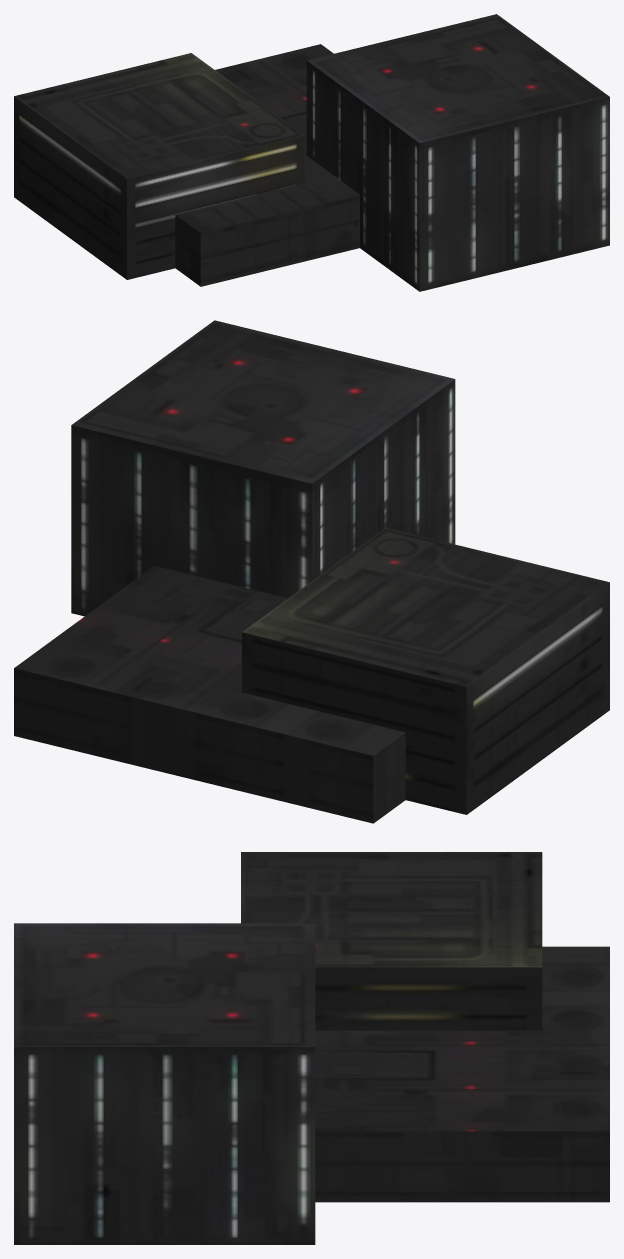
File: scifi_building_37.obj
3 renders of one model, top to bottom at view 1: azimuth 30°, elevation 25°; view 2: azimuth 150°, elevation 25°; view 3: azimuth 270°, elevation 25°, orthographic. The views are drawn at different scales.
Visible parts, largest first — view 1: building_37; view 2: building_37; view 3: building_37.
Part boxes in pixels (left/top/right/bottom): building_37: left=14, top=14, right=609, bottom=291; building_37: left=14, top=320, right=609, bottom=823; building_37: left=14, top=852, right=609, bottom=1244.
Size of the model in its own units: 80.63 by 28.8 by 78.62.
1 material, 1 textured.
